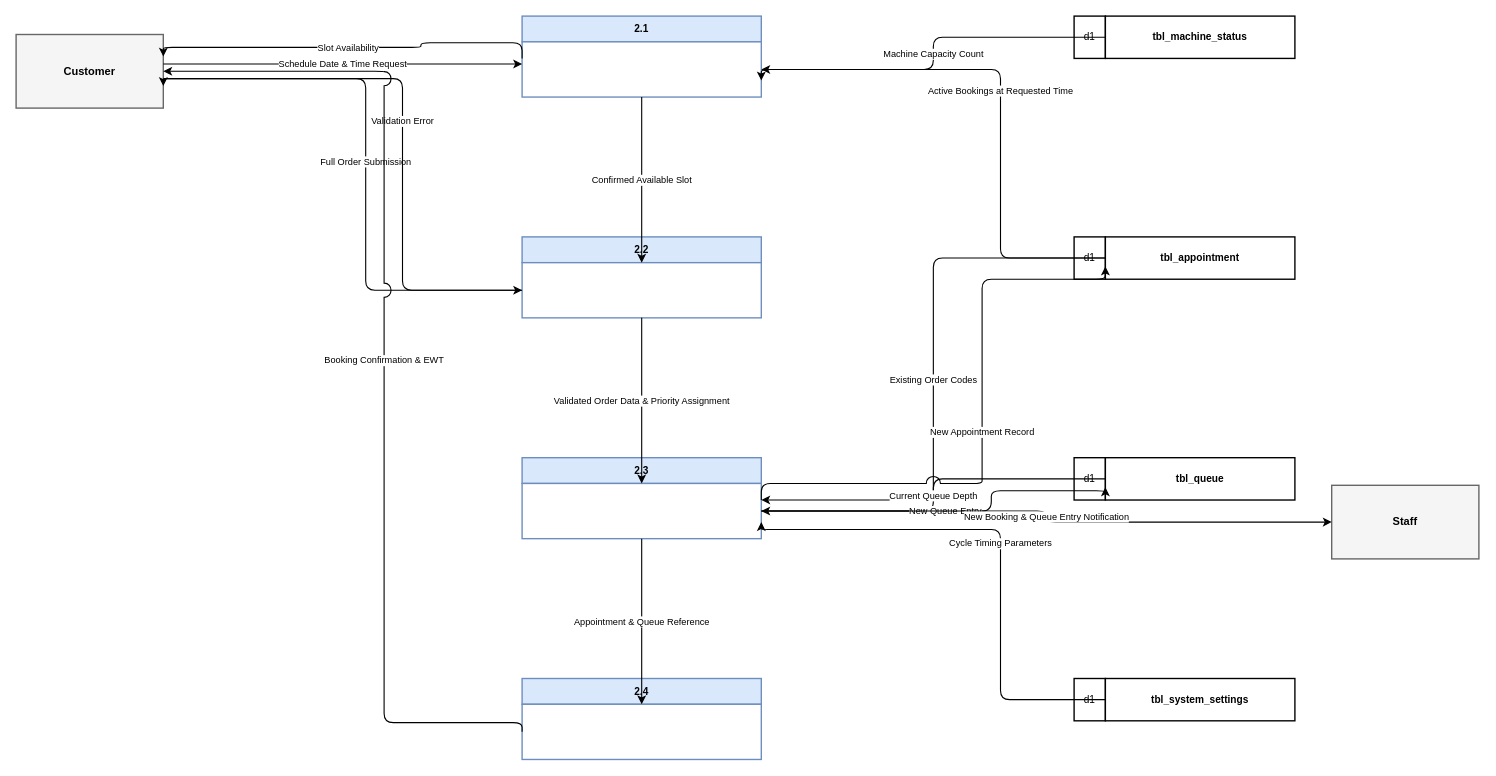
Some shapes in this 1496 by 776 pixel diagram are drawn without their labels. Here are the shapes that lost their labels. From the top down, the box of each, then its label:
(521, 41, 762, 97): Slot Availability Check
(521, 262, 762, 318): Order Data Validation & Priority Assignment
(521, 482, 762, 539): Appointment & Queue Record Creation
(521, 703, 762, 760): Booking Confirmation & Email Notification
